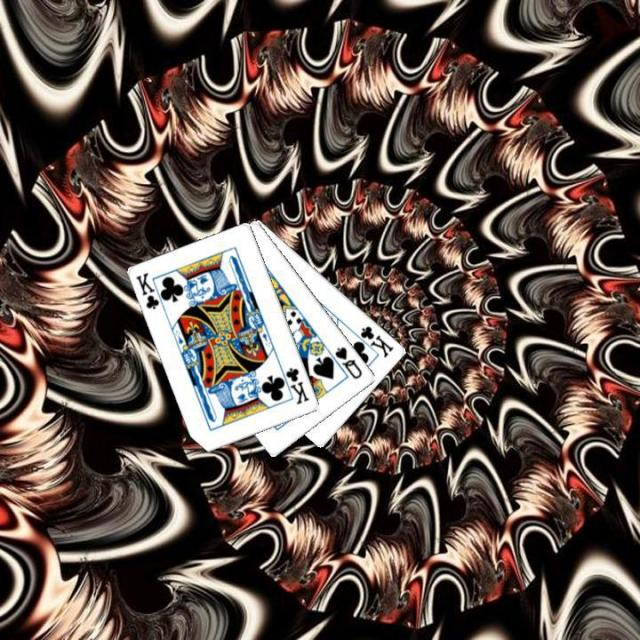KC: (350, 322, 396, 359), (133, 269, 167, 312), (277, 364, 311, 406)
QS: (330, 343, 364, 381)
